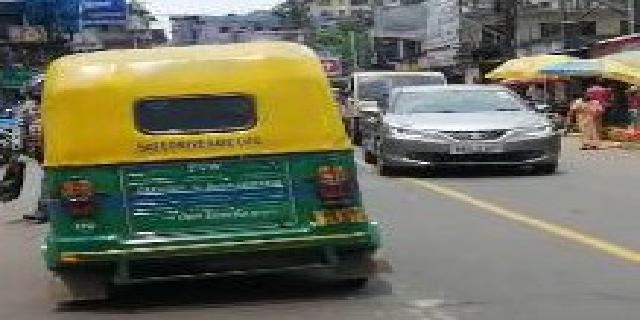Autorickshaw: (39, 40, 387, 304)
Car: (363, 68, 564, 180)
